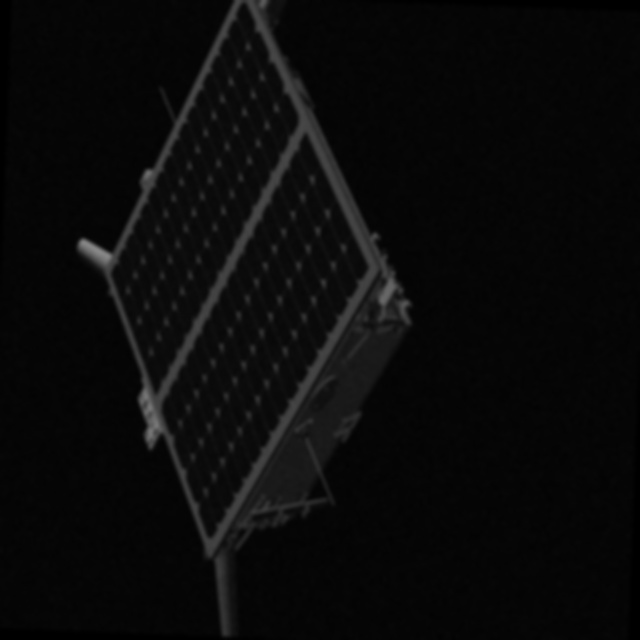medium_debris: (68, 0, 424, 638)
